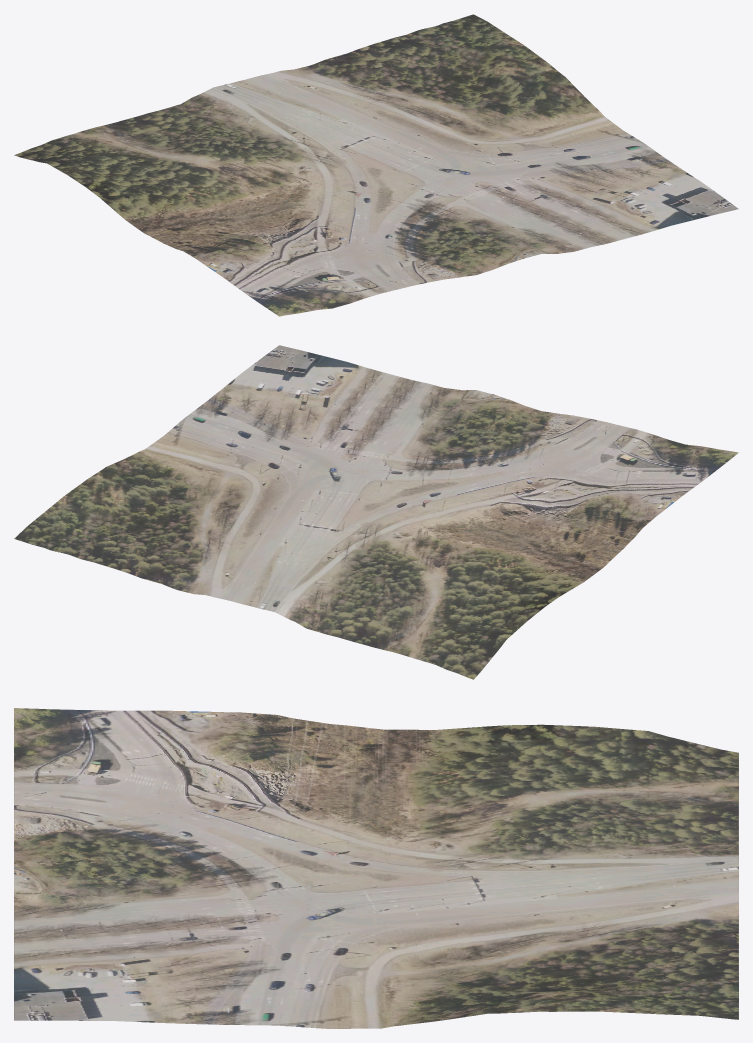
Rendered from CM_Terrain_24491687_6816517.fbx.
The picture shows the model from 3 angles, top to bottom: view 1: azimuth 30°, elevation 25°; view 2: azimuth 150°, elevation 25°; view 3: azimuth 270°, elevation 25°; orthographic projection. The views are drawn at different scales.
Visible parts, largest first — view 1: CM_Terrain_24491687_6816517_LOD0; view 2: CM_Terrain_24491687_6816517_LOD0; view 3: CM_Terrain_24491687_6816517_LOD0.
Part boxes in pixels (bbox=[...]): CM_Terrain_24491687_6816517_LOD0: bbox=[14, 14, 738, 316]; CM_Terrain_24491687_6816517_LOD0: bbox=[14, 345, 738, 679]; CM_Terrain_24491687_6816517_LOD0: bbox=[14, 708, 738, 1028].
Size of what is drawn, in the model's own units: 205 by 14.86 by 205.
